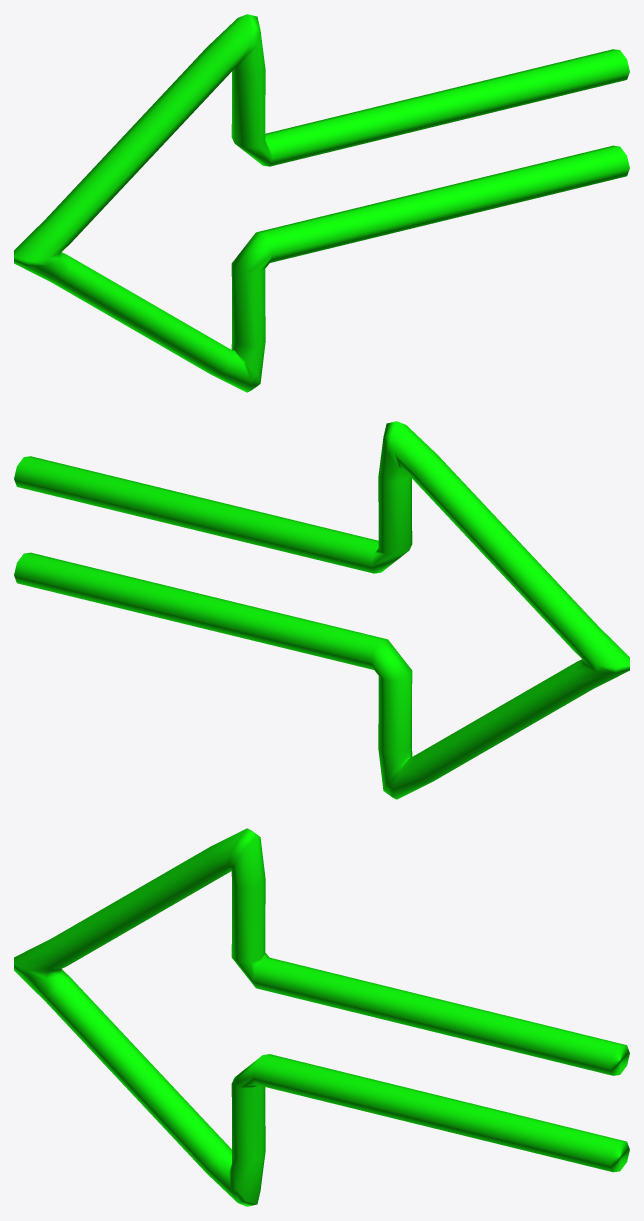
Rendered from ArrowNeon_01.fbx.
3 views of the same model, one above another, from view 1: azimuth 30°, elevation 25°; view 2: azimuth 150°, elevation 25°; view 3: azimuth 330°, elevation 25° (orthographic).
Parts seen in each view (by area): view 1: ArrowNeon_01; view 2: ArrowNeon_01; view 3: ArrowNeon_01.
Boxes of the visible parts, x1=… form: ArrowNeon_01: x1=14, y1=14, x2=629, y2=392; ArrowNeon_01: x1=14, y1=421, x2=629, y2=799; ArrowNeon_01: x1=14, y1=828, x2=629, y2=1206.
Bounding box in the file's own units: 642 × 383 × 36.18.
